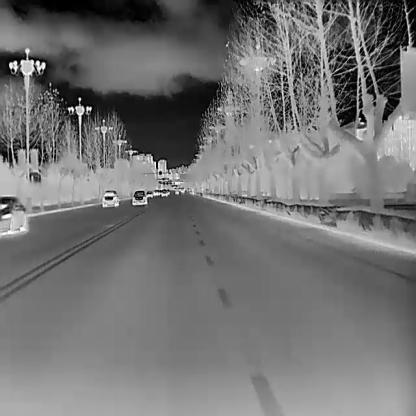car: (0, 194, 27, 236), (102, 190, 118, 206), (131, 189, 147, 205), (161, 189, 167, 198), (153, 190, 158, 198), (148, 190, 152, 198), (174, 190, 180, 195)
